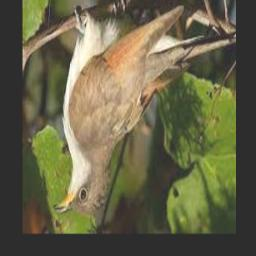Cuckoo: (53, 6, 203, 214)
